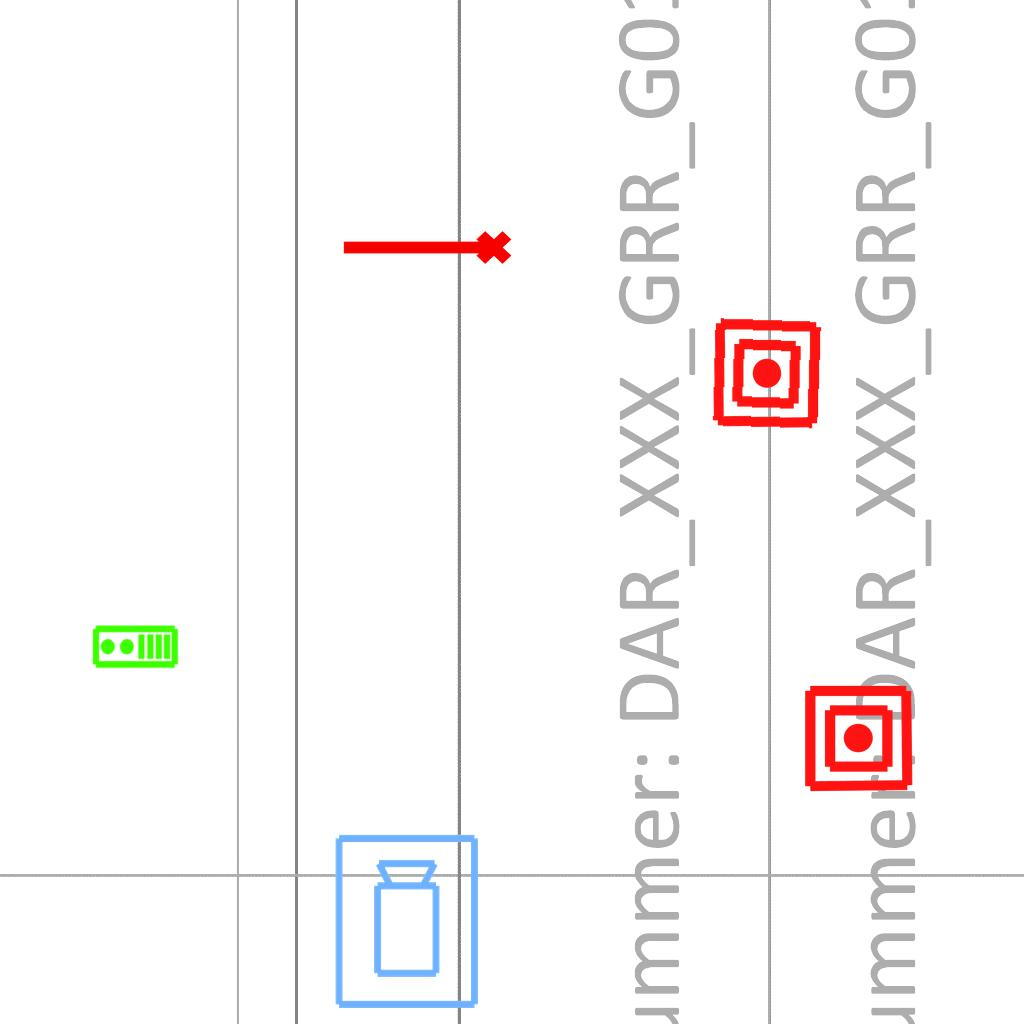ASR_Ansaugoeffnung: (338, 227, 514, 273)
Gegensprechanlage_mit_Video: (91, 624, 179, 671)
KFO_Kamera_mit_Festobjektiv: (331, 831, 485, 1013)
NAM-Nichtautomatischer_Melder: (708, 315, 825, 432), (802, 682, 915, 795)
